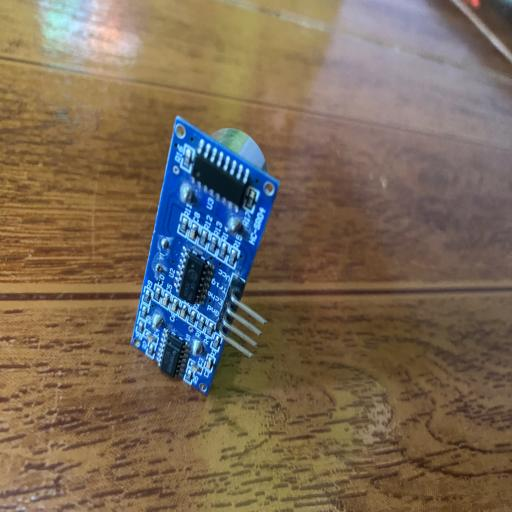Ultrasonic Sensor: (128, 114, 278, 398)
